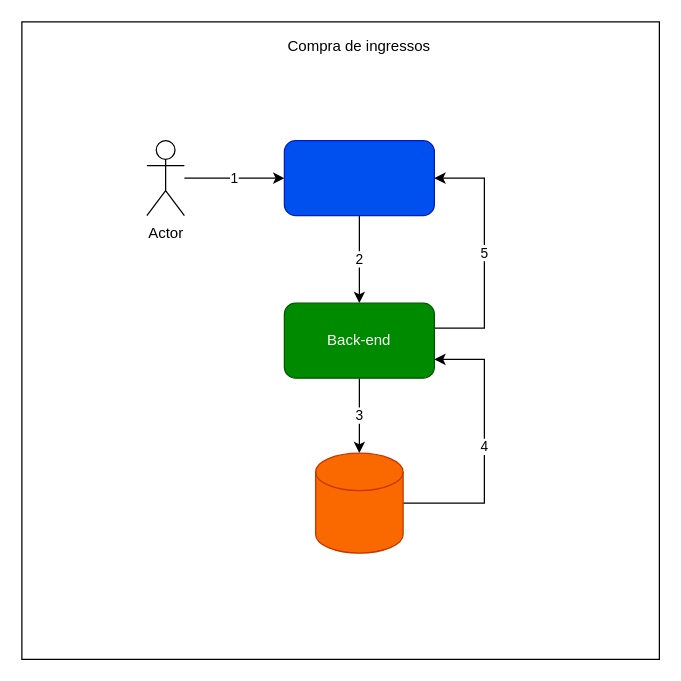
Image size: 681x681. Some labels were removed from this diagram. The shapes that lost their labels are listed below. From the top down, each one's centre as x and y in pixels, then its label:
At pixel 358 177: "Front-end".
At pixel 358 502: "DB-SQL".
